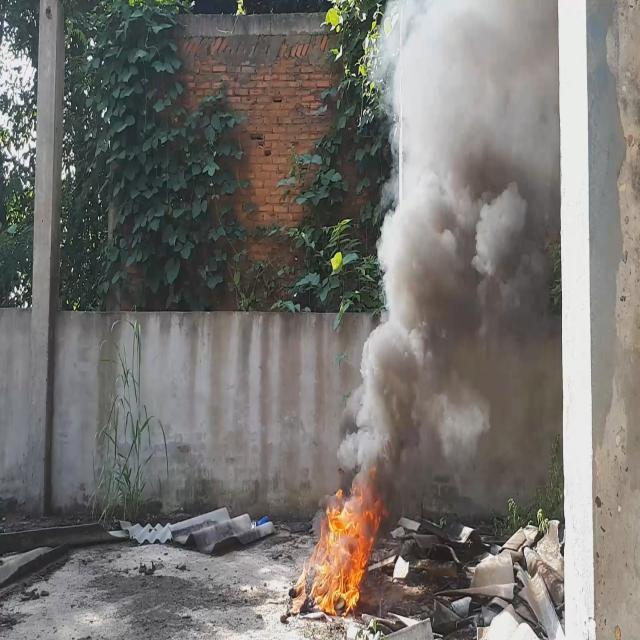Fire: (310, 461, 388, 616)
Smoke: (334, 0, 560, 501)
